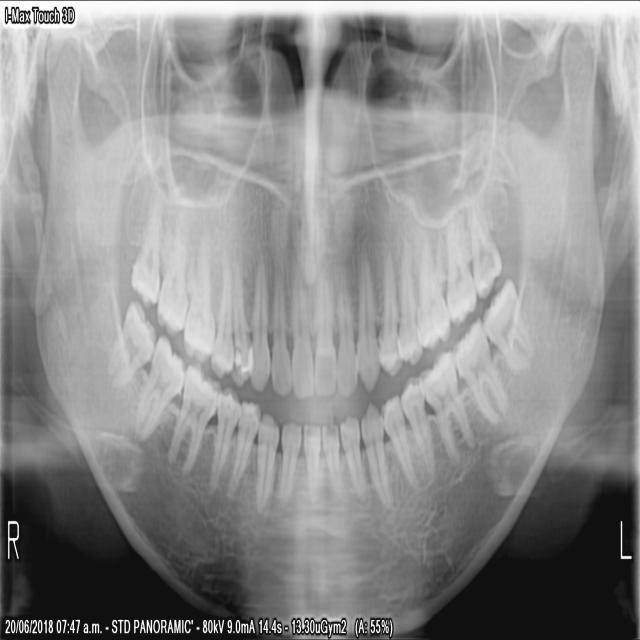LCD: (356, 399, 393, 510)
LCU: (353, 239, 380, 394)
LID: (336, 411, 366, 504), (319, 419, 341, 514)
LIU: (333, 250, 357, 398), (310, 254, 334, 398)
LMD: (413, 342, 475, 469), (449, 309, 504, 428), (479, 268, 534, 370)
LMU: (412, 236, 451, 350), (441, 214, 477, 325), (465, 203, 501, 300)
LPMD: (376, 384, 422, 493), (396, 367, 435, 485)
LPMU: (373, 239, 402, 379), (391, 241, 422, 368)
RCD: (253, 409, 278, 517)
RCU: (245, 254, 270, 393)
RID: (275, 418, 302, 506), (300, 420, 318, 511)
RIU: (288, 250, 313, 401), (268, 262, 290, 399)
RMD: (162, 359, 221, 474), (131, 328, 184, 438), (103, 295, 153, 384)
RMU: (180, 235, 214, 363), (152, 228, 188, 337), (126, 209, 160, 312)
RPMD: (204, 382, 240, 499), (223, 396, 262, 497)
RPMU: (227, 256, 253, 387), (207, 257, 233, 378)
